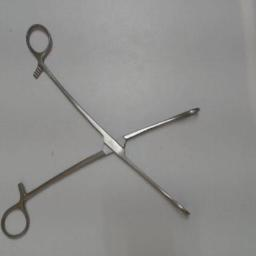Sponge Forceps: (0, 18, 208, 240)
